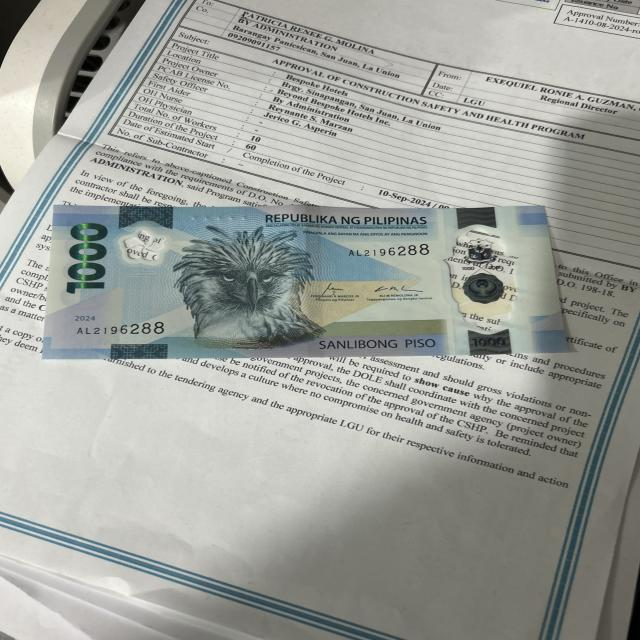clear_window: (442, 226, 525, 328)
eagle: (184, 230, 308, 350)
sampaguita: (119, 228, 165, 262)
serial_number: (66, 318, 178, 342), (340, 238, 434, 262)
